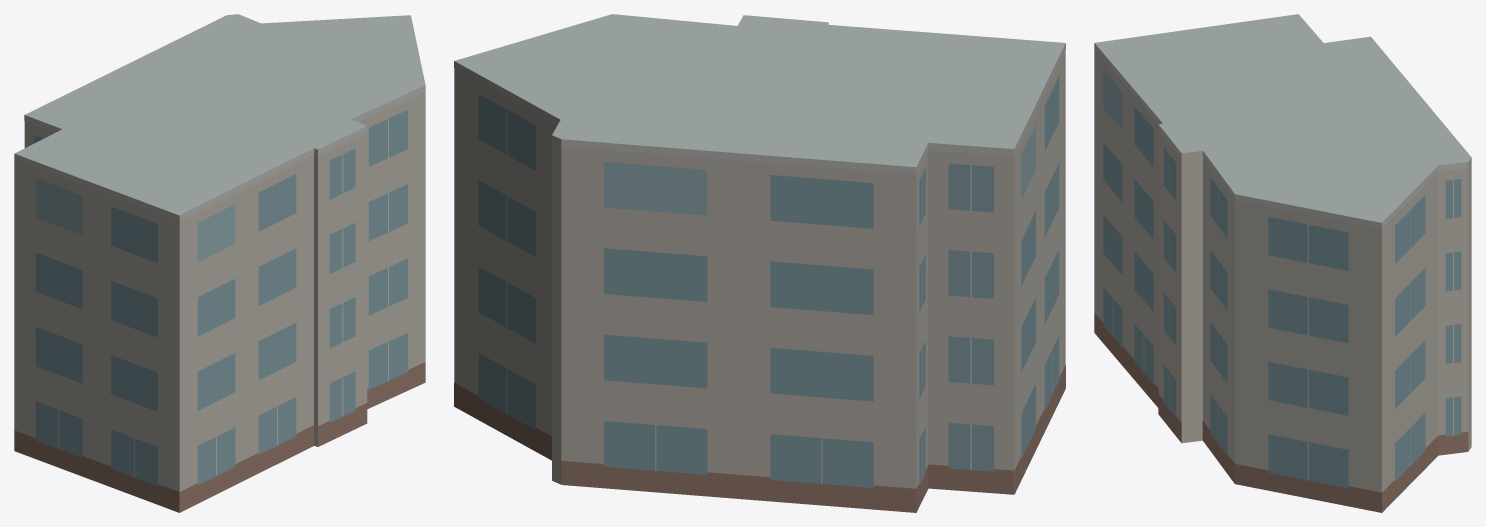
Rendered from survey-upis-33036348.glb.
3 views of the same model, side by side, from view 1: azimuth 30°, elevation 25°; view 2: azimuth 150°, elevation 25°; view 3: azimuth 270°, elevation 25° (orthographic). The views are drawn at different scales.
Visible parts, largest first — view 1: survey-upis-33036348.tmp; view 2: survey-upis-33036348.tmp; view 3: survey-upis-33036348.tmp.
Boxes of the visible parts, x1=… form: survey-upis-33036348.tmp: x1=14, y1=14, x2=425, y2=512; survey-upis-33036348.tmp: x1=454, y1=14, x2=1065, y2=512; survey-upis-33036348.tmp: x1=1094, y1=14, x2=1471, y2=512.
Size of the model in its own units: 18.25 by 11.8 by 13.92.
